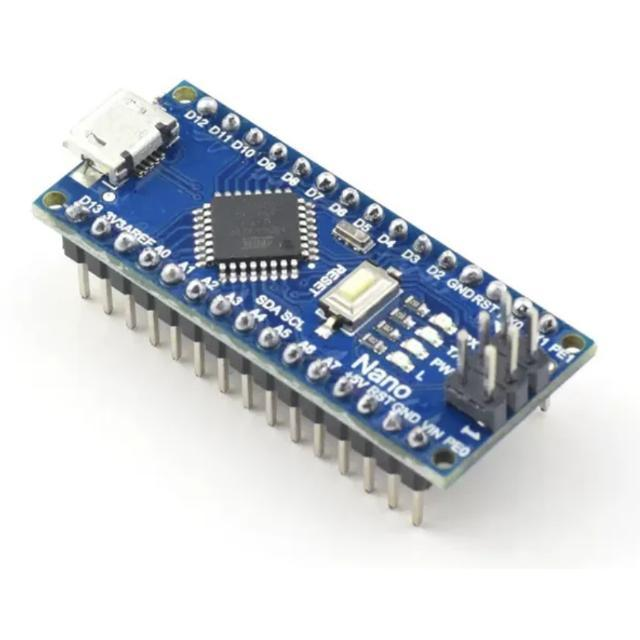Arduino-Nano: (35, 81, 596, 525)
